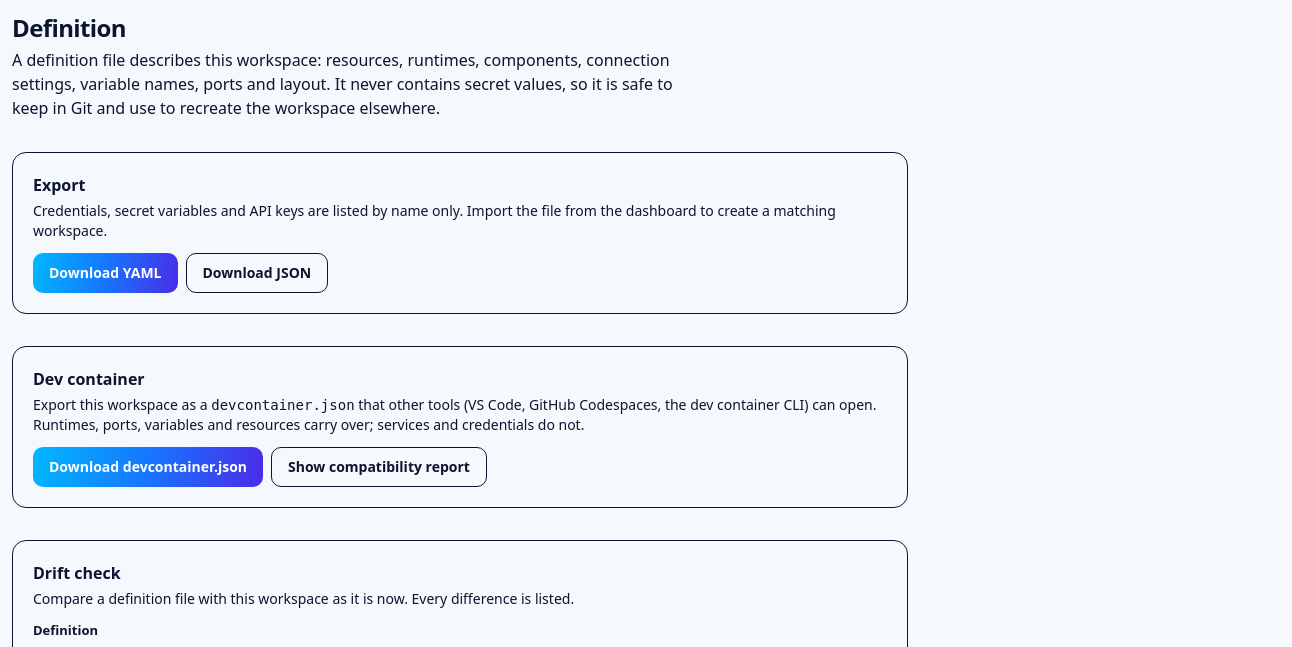
Dev container export › offers the download and a compatibility report on demand
Click the button "Show compatibility report" at {"x": 379, "y": 467}, box x1=271 y1=447 x2=487 y2=487
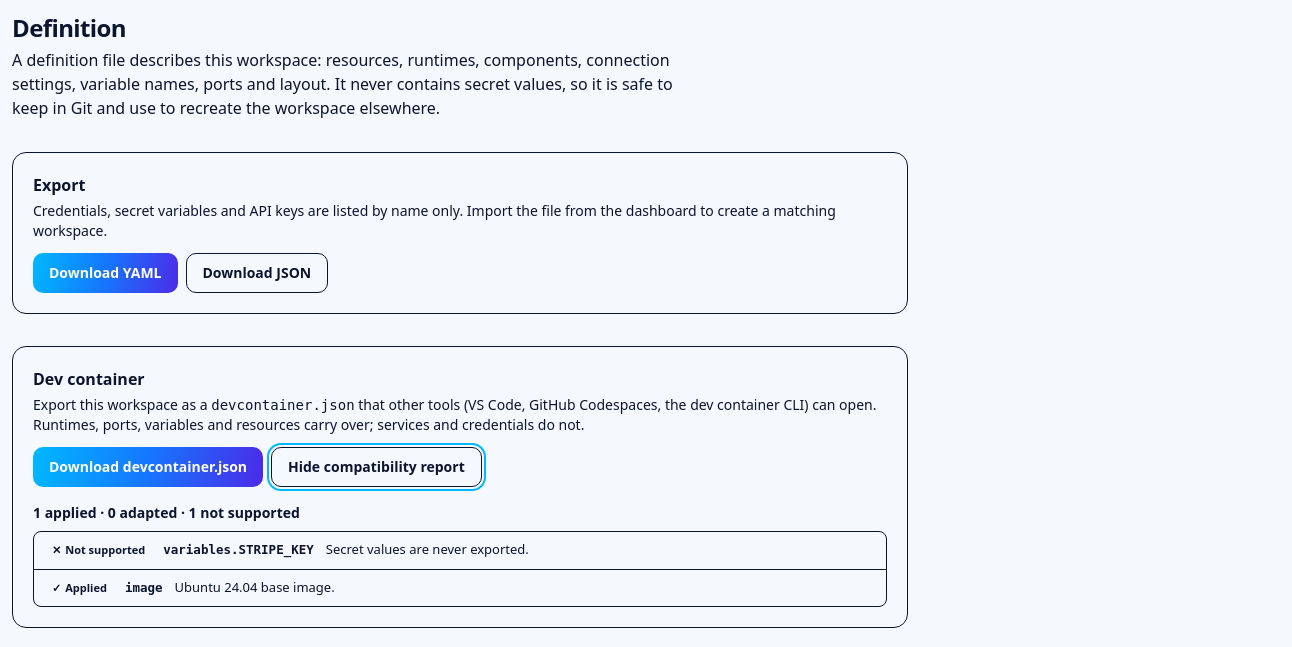
expect the text "variables.STRIPE_KEY" is shown: met, box x1=163 y1=541 x2=314 y2=560
expect the button "Hide compatibility report" is shown: met, box x1=271 y1=447 x2=482 y2=487
